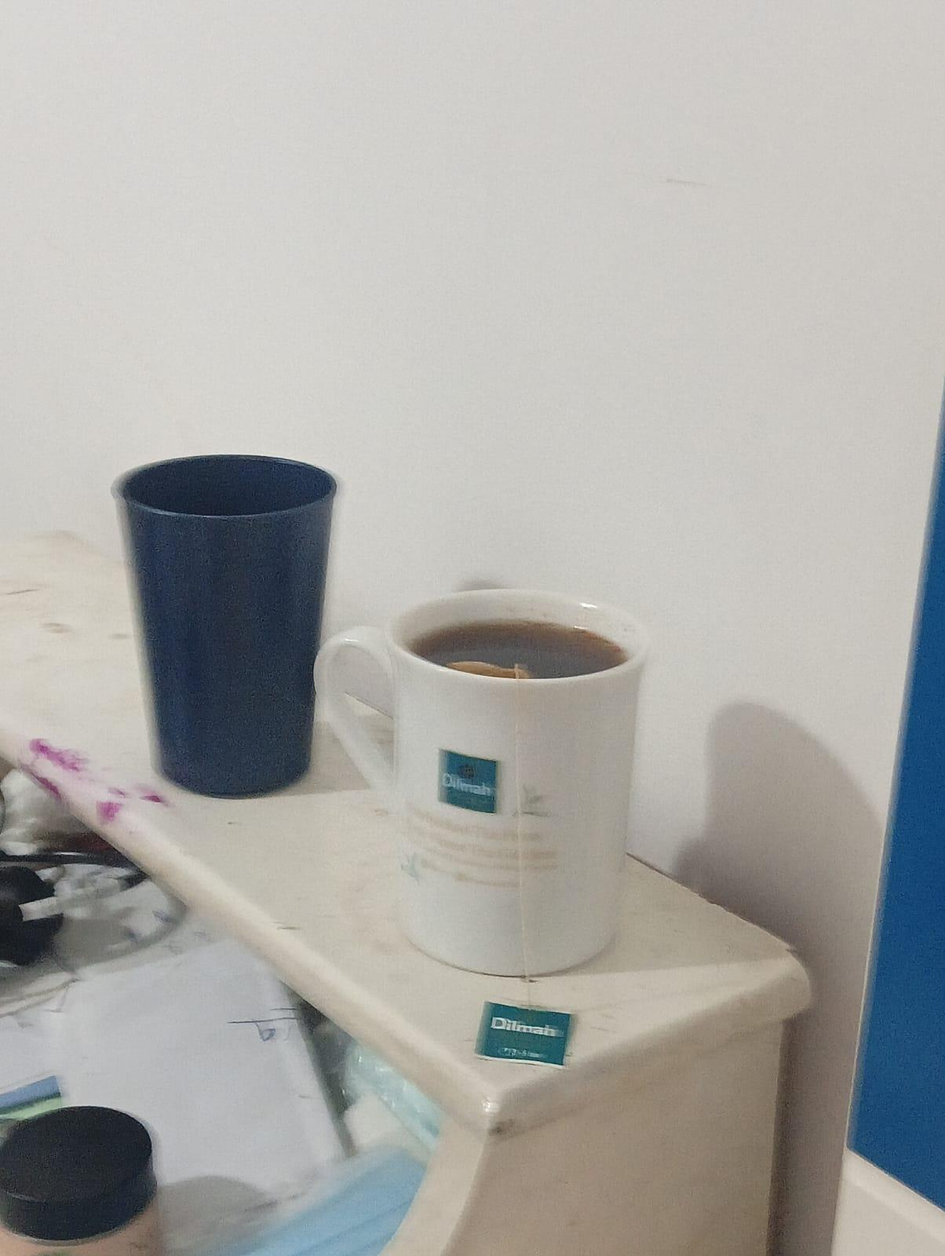cup: (316, 590, 646, 975), (114, 455, 335, 796)
